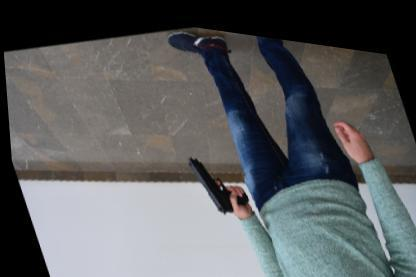pistol: (183, 140, 250, 216)
